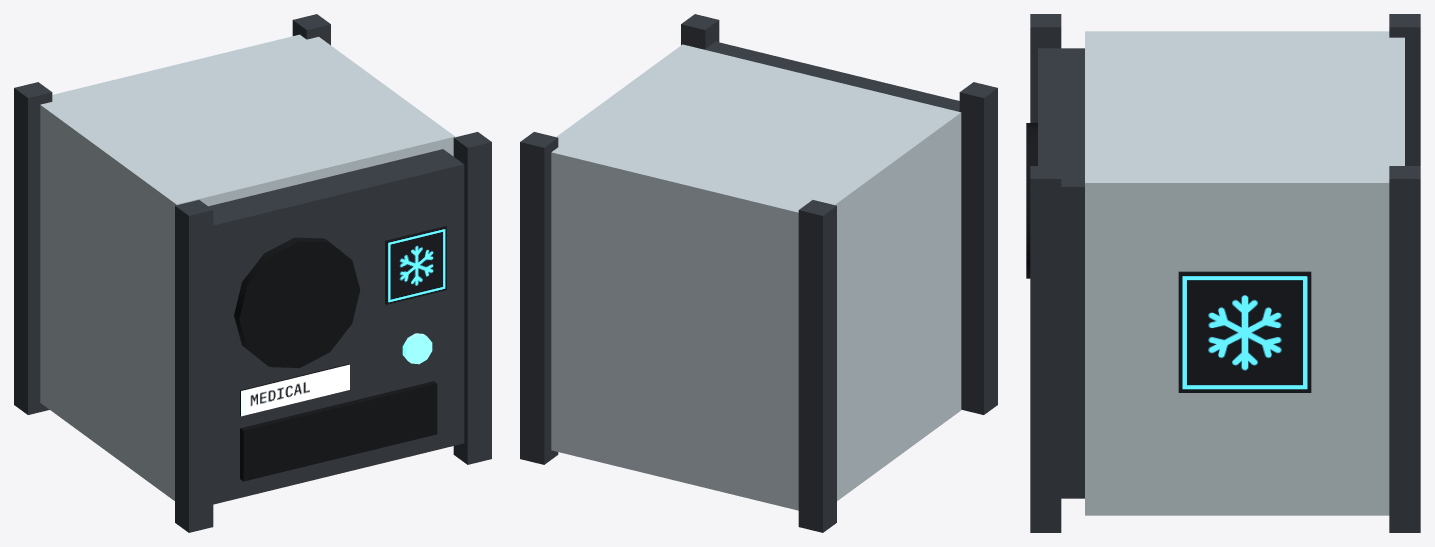
Rendered from cargo_05_reefer.glb.
3 renders of one model, left to right at view 1: azimuth 30°, elevation 25°; view 2: azimuth 150°, elevation 25°; view 3: azimuth 270°, elevation 25°, orthographic. The views are drawn at different scales.
Parts seen in each view (by area): view 1: body, cooling_unit, post_3, fan_grille, condenser, post_4, post_1, placard_front, manifest, post_2, temp_lamp; view 2: body, post_1, post_3, post_2, cooling_unit, post_4; view 3: body, placard_side, cooling_unit, post_2, post_4, post_1, post_3, fan_grille.
Part boxes in pixels (bbox=[...]): body: bbox=[40, 34, 455, 500]; cooling_unit: bbox=[208, 149, 464, 504]; post_3: bbox=[175, 200, 213, 532]; fan_grille: bbox=[234, 237, 360, 367]; condenser: bbox=[240, 381, 437, 481]; post_4: bbox=[453, 132, 491, 464]; post_1: bbox=[14, 82, 52, 414]; placard_front: bbox=[385, 226, 446, 304]; manifest: bbox=[240, 364, 349, 416]; post_2: bbox=[292, 14, 330, 45]; temp_lamp: bbox=[402, 333, 432, 364]; body: bbox=[551, 44, 961, 510]; post_1: bbox=[798, 200, 836, 532]; post_3: bbox=[959, 82, 997, 414]; post_2: bbox=[520, 132, 558, 464]; cooling_unit: bbox=[705, 41, 959, 111]; post_4: bbox=[681, 14, 719, 49]; body: bbox=[1085, 31, 1404, 515]; placard_side: bbox=[1178, 271, 1311, 392]; cooling_unit: bbox=[1038, 48, 1084, 498]; post_2: bbox=[1389, 166, 1420, 532]; post_4: bbox=[1030, 166, 1061, 532]; post_1: bbox=[1389, 14, 1420, 165]; post_3: bbox=[1030, 14, 1061, 122]; fan_grille: bbox=[1026, 123, 1037, 278].
Size of the model in its own units: 1 by 1 by 1.01.
Materials: 7 (2 with a texture image).
